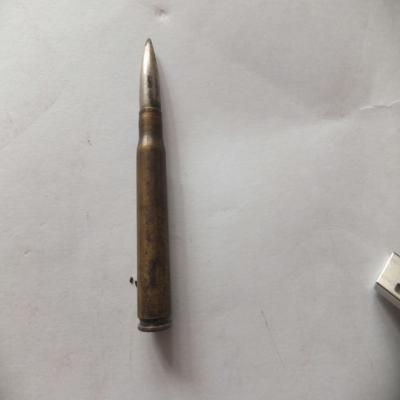weapon: (136, 40, 173, 334)
